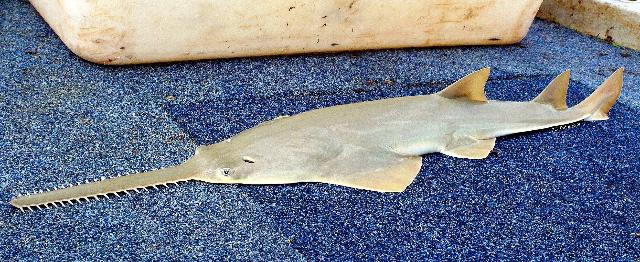Sirip Ekor: (584, 62, 632, 137)
